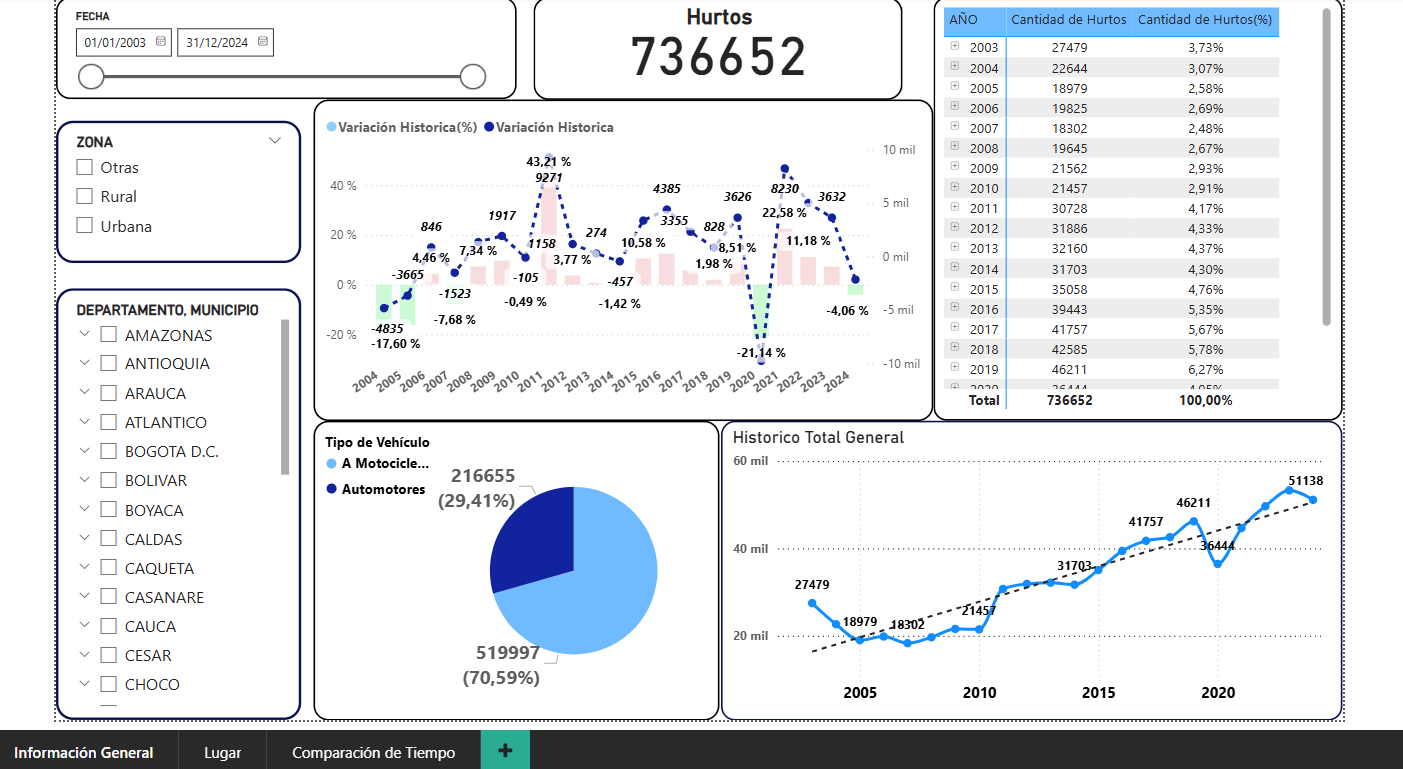

The page's visual inventory and layout, read from the dashboard file:
{"tool":"powerbi","page":{"name":"Información General","canvas":[1280,720],"ordinal":0},"visuals":[{"type":"lineChart","title":"Historico Total General","fields":{"Y":["HURTO_A_VEH_CULOS_20250501.Cantidad_Hurto"],"Category":["Calendario (2).AÑO","Calendario (2).CUATRIMESTRE","Calendario (2).TRIMESTRE","Calendario (2).MES_NUM"]},"box":[661.4,421.4,618.6,298.6],"z":0},{"type":"slicer","fields":{"Values":["HURTO_A_VEH_CULOS_20250501.ZONA"]},"box":[0,123.5,244.3,141.3],"z":1000},{"type":"slicer","fields":{"Values":["HURTO_A_VEH_CULOS_20250501.DEPARTAMENTO","HURTO_A_VEH_CULOS_20250501.MUNICIPIO"]},"box":[0,289.5,244.3,429.5],"z":2000},{"type":"lineStackedColumnComboChart","fields":{"Y2":["HURTO_A_VEH_CULOS_20250501.Diferencia_Hurtos_general"],"Y":["HURTO_A_VEH_CULOS_20250501.Diferencia_Hurtos_Porcentaje"],"Category":["Calendario (2).FECHA.Variación.Jerarquía de fechas.Año","Calendario (2).AÑO","Calendario (2).CUATRIMESTRE","Calendario (2).TRIMESTRE","Calendario (2).MES_NOMBRE"]},"box":[255.7,101.4,617.1,320],"z":3000},{"type":"slicer","fields":{"Values":["Calendario (2).FECHA"]},"box":[0,0,458.6,101.4],"z":4000},{"type":"pivotTable","fields":{"Values":["HURTO_A_VEH_CULOS_20250501.Cantidad_Hurto","Divide(HURTO_A_VEH_CULOS_20250501.Cantidad_Hurto, ScopedEval(HURTO_A_VEH_CULOS_20250501.Cantidad_Hurto, []))"],"Rows":["Calendario (2).AÑO","Calendario (2).CUATRIMESTRE","Calendario (2).TRIMESTRE","Calendario (2).MES_NOMBRE"]},"box":[872.9,0,407.1,421.4],"z":5000},{"type":"pieChart","fields":{"Y":["HURTO_A_VEH_CULOS_20250501.Cantidad_Hurto"],"Category":["HURTO_A_VEH_CULOS_20250501.TIPO DELITO"]},"box":[255.7,421.4,404.3,298.6],"z":6000},{"type":"card","title":"Hurtos","fields":{"Values":["HURTO_A_VEH_CULOS_20250501.Cantidad_Hurto"]},"box":[475.2,0,367,102],"z":7000}]}

Visuals, with their boxes in screenshot pixels (x1, y1, x2, y2):
"Historico Total General" lineChart: box(718, 416, 1345, 719)
slicer - HURTO_A_VEH_CULOS_20250501.ZONA: box(48, 114, 295, 257)
slicer - HURTO_A_VEH_CULOS_20250501.DEPARTAMENTO x HURTO_A_VEH_CULOS_20250501.MUNICIPIO: box(48, 282, 295, 718)
lineStackedColumnComboChart - HURTO_A_VEH_CULOS_20250501.Diferencia_Hurtos_general x HURTO_A_VEH_CULOS_20250501.Diferencia_Hurtos_Porcentaje: box(307, 92, 932, 416)
slicer - Calendario (2).FECHA: box(48, 0, 512, 92)
pivotTable - HURTO_A_VEH_CULOS_20250501.Cantidad_Hurto x Divide(HURTO_A_VEH_CULOS_20250501.Cantidad_Hurto, ScopedEval(HURTO_A_VEH_CULOS_20250501.Cantidad_Hurto, [])): box(932, 0, 1345, 416)
pieChart - HURTO_A_VEH_CULOS_20250501.Cantidad_Hurto x HURTO_A_VEH_CULOS_20250501.TIPO DELITO: box(307, 416, 717, 719)
"Hurtos" card: box(529, 0, 901, 92)
